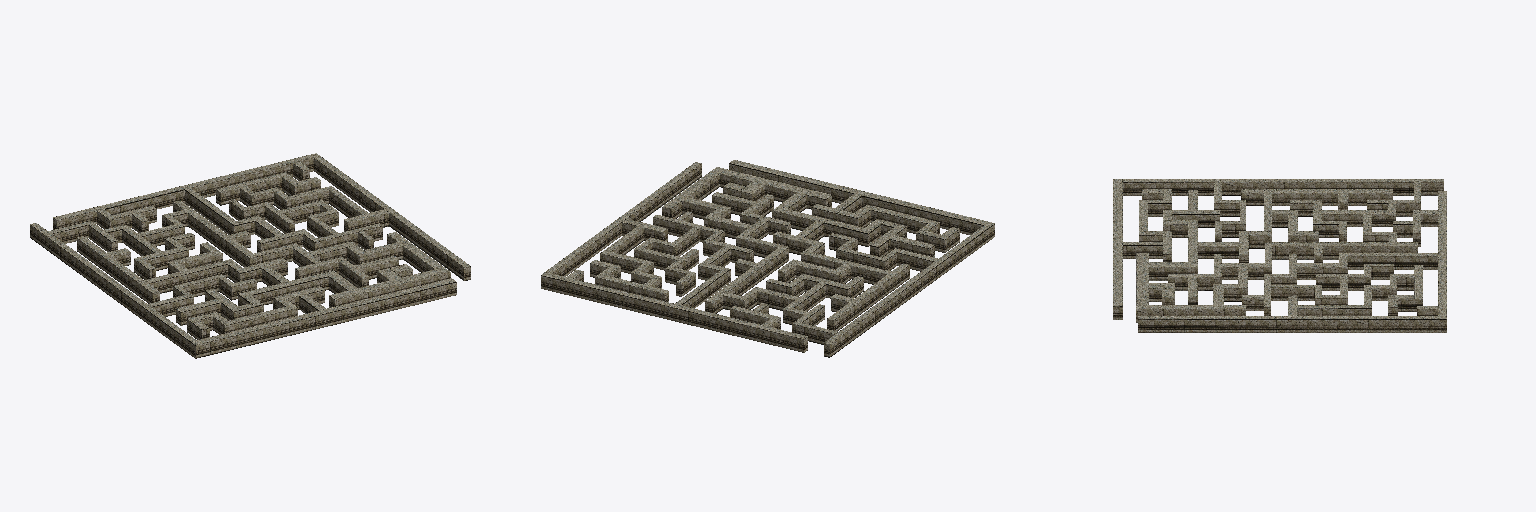
The picture shows the model from 3 angles: view 1: azimuth 30°, elevation 25°; view 2: azimuth 150°, elevation 25°; view 3: azimuth 270°, elevation 25°; orthographic projection.
Parts seen in each view (by area): view 1: Plane; view 2: Plane; view 3: Plane.
Boxes of the visible parts, x1,y1,x2,y2 form: Plane: [30, 153, 470, 358]; Plane: [541, 160, 994, 357]; Plane: [1113, 179, 1446, 332].
Bounding box in the file's own units: 77.21 × 3.48 × 77.51.
Materials: 1 (1 with a texture image).